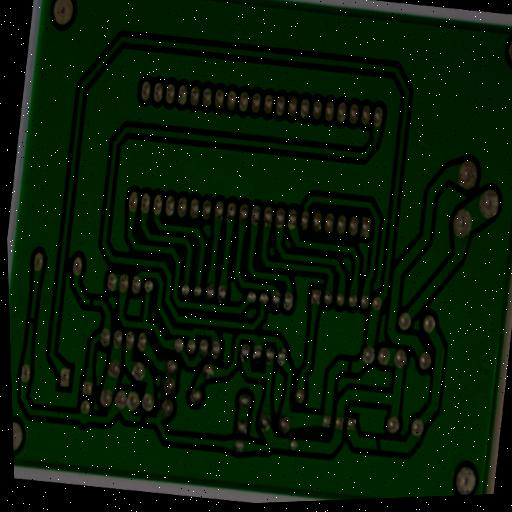open_circuit: (370, 435, 387, 457), (344, 358, 357, 378), (85, 294, 99, 311), (137, 413, 150, 428), (27, 313, 37, 328)
